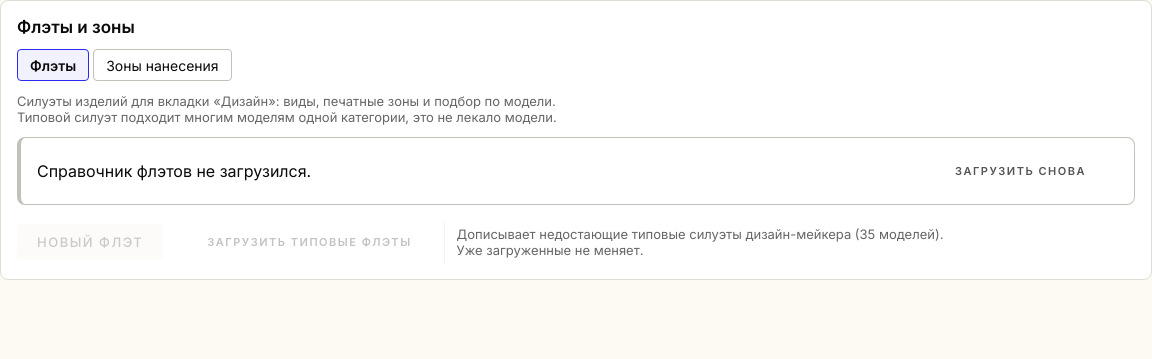
it: FlatsTab — список › справочник не прочитан: плашка и повтор, загрузка сида закрыта
Expected: the text "Справочник флэтов не загрузился." is shown, [37, 161, 311, 181]
Expected: the button "Загрузить типовые флэты" is disabled, [175, 221, 445, 263]
Click the button "Загрузить снова".
click(1020, 171)  # box [923, 150, 1118, 192]
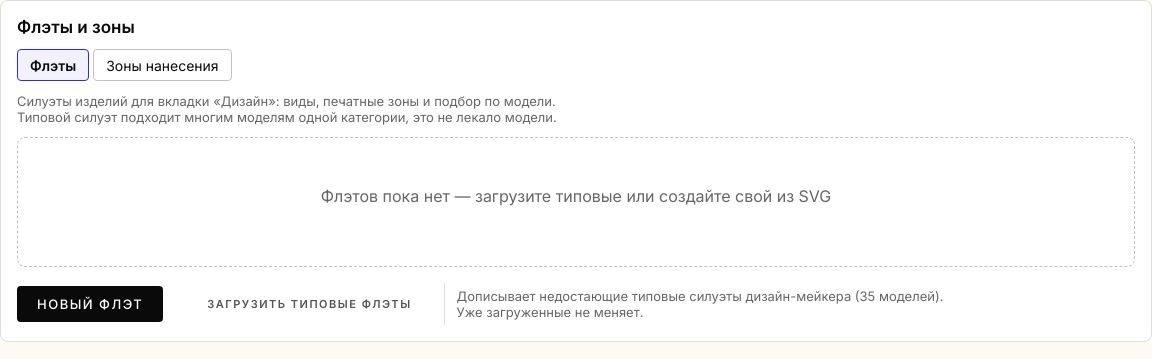
Expected: the text "Флэтов пока нет — загрузите типовые или создайте свой из SVG" is shown, [321, 186, 831, 206]
